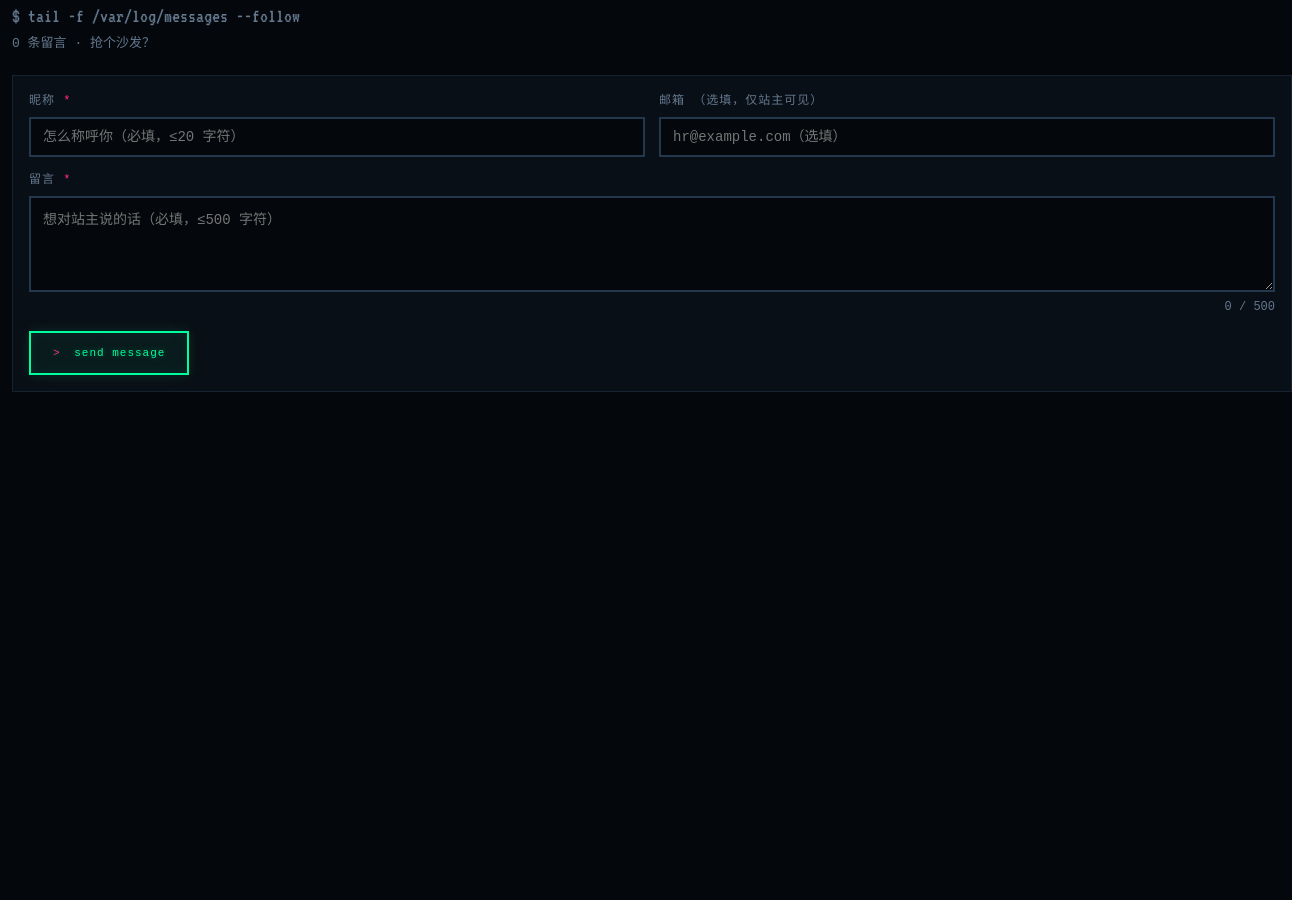
Test case: 提交失败 › 429 限流：toast 显示限流提示
This screenshot has width=1292, height=900.
Type "访客" into the field named "nickname" at (337, 137), box [29, 117, 645, 157]
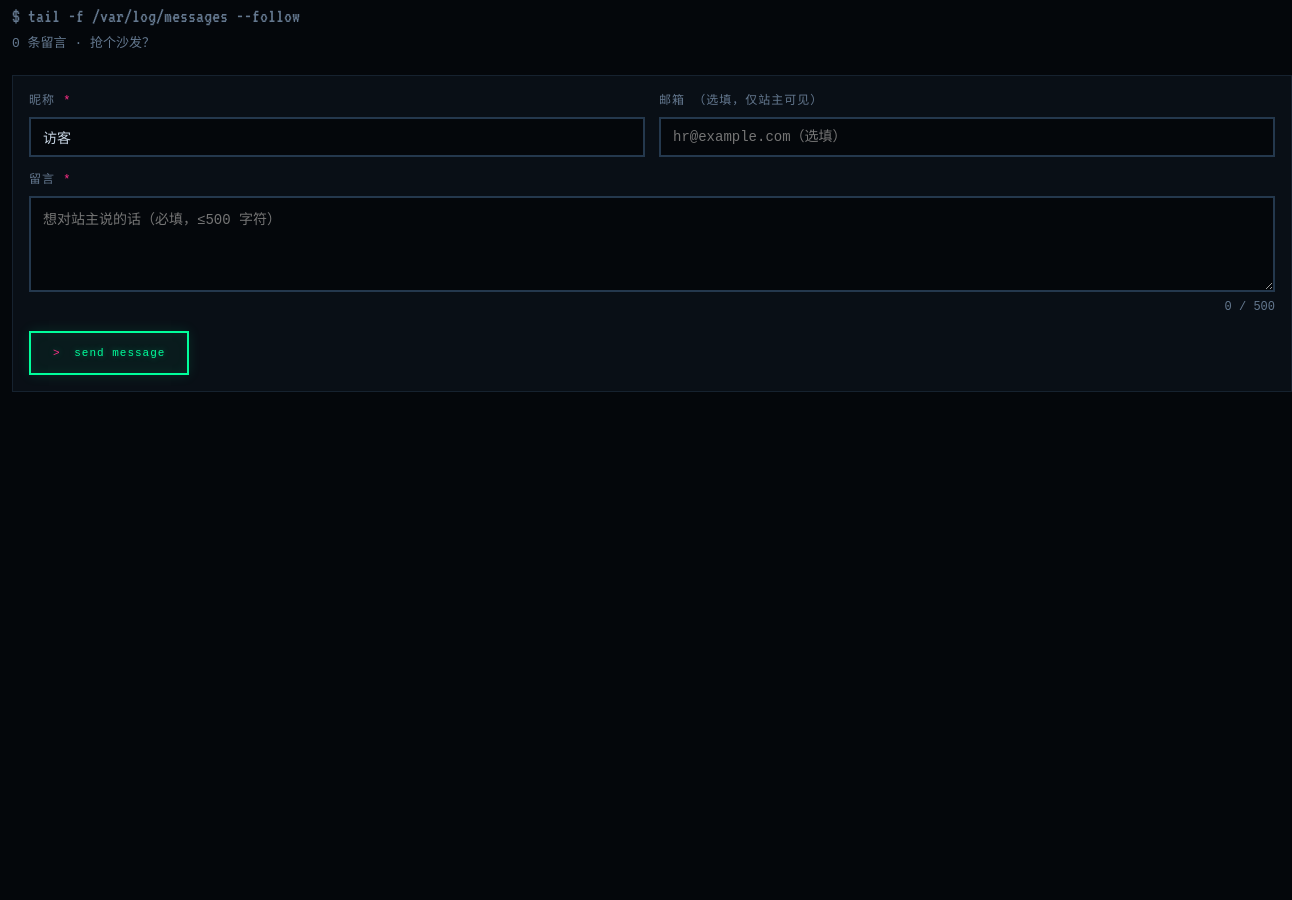
Type "灌水" into the text box named "content" at (652, 244), box [29, 196, 1275, 292]
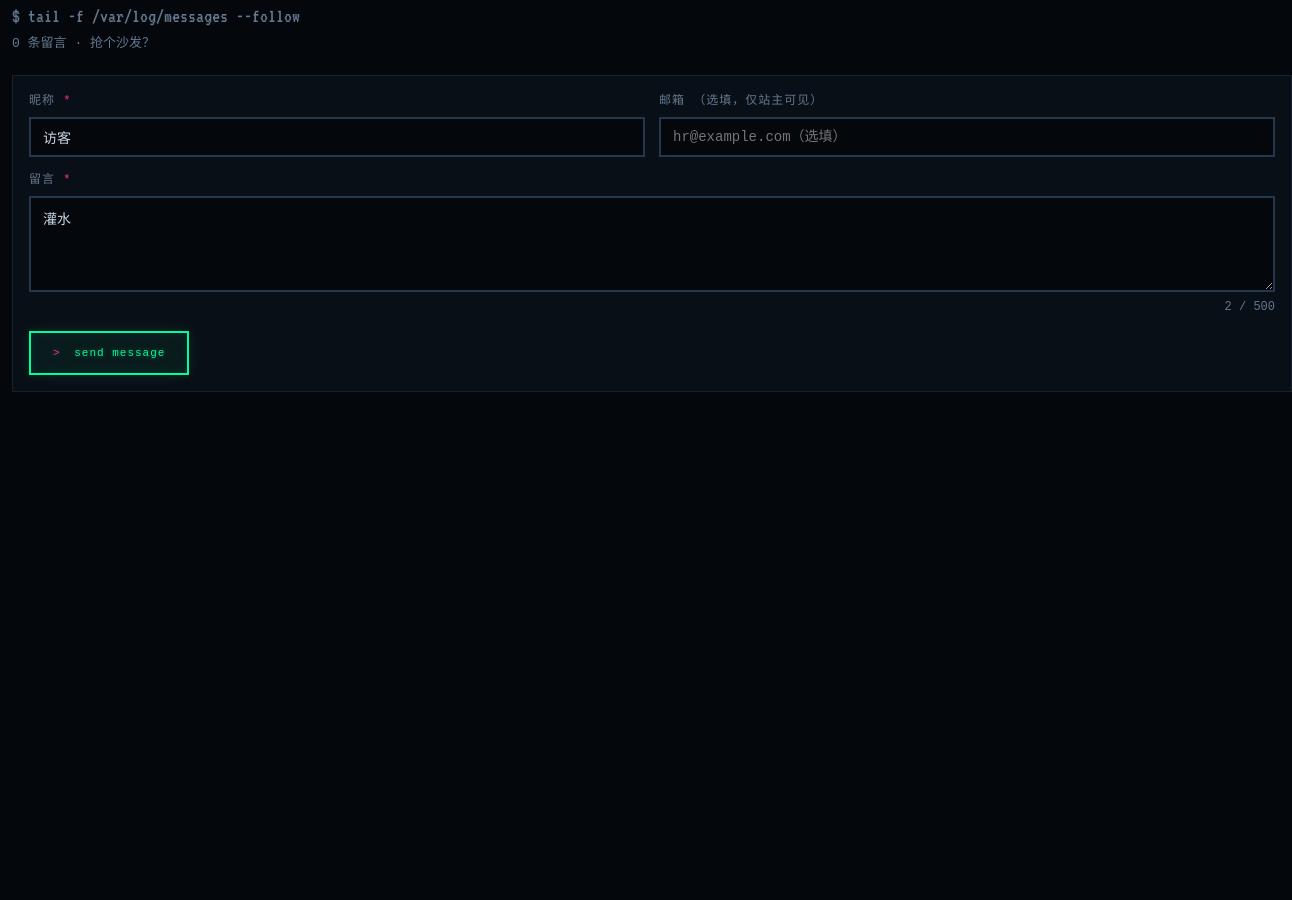
Submit the form, box [12, 75, 1291, 392]
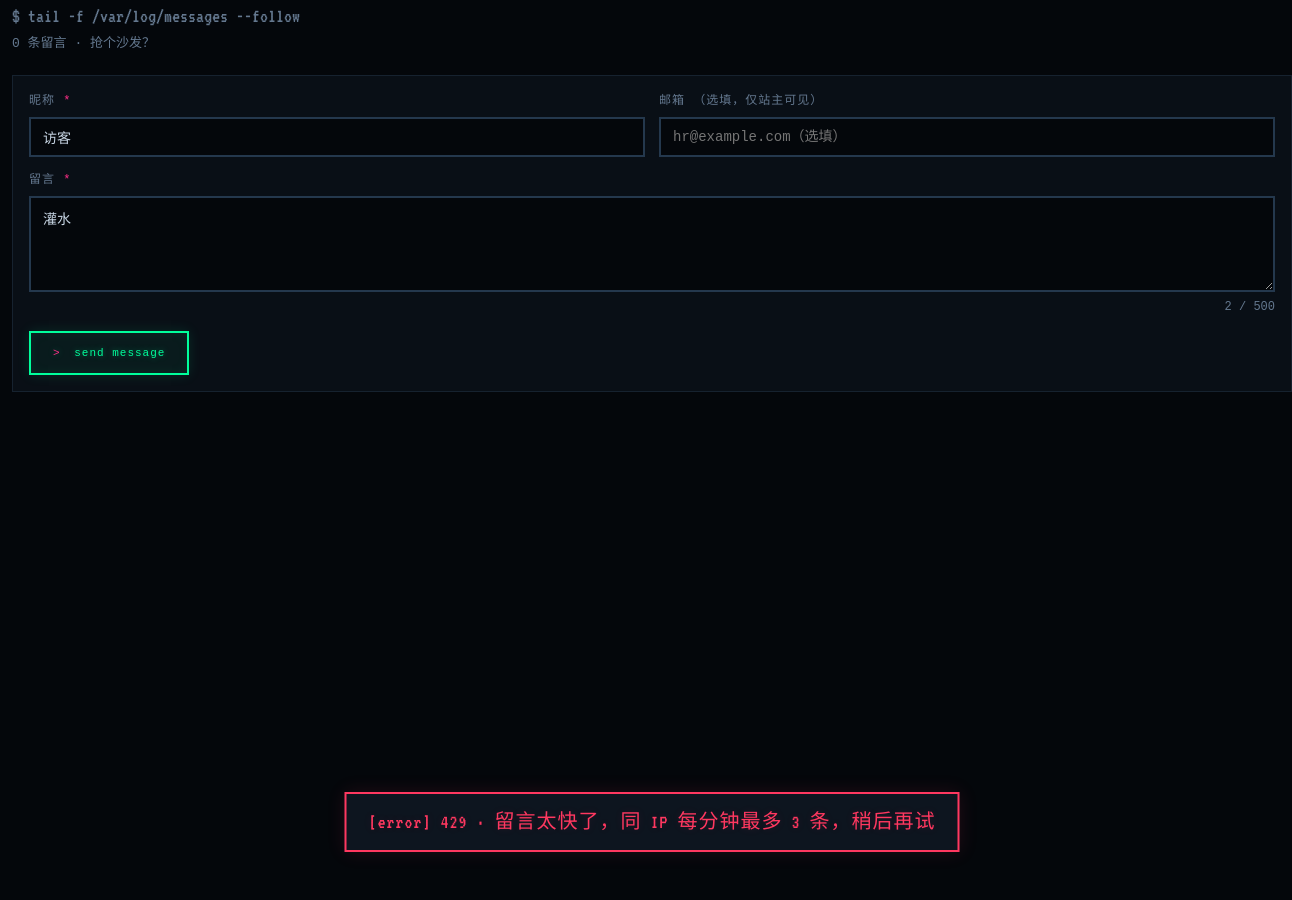
Check: the message with class "toast" shows "429", box [368, 812, 936, 832]
Check: the message with class "toast" shows "每分钟最多 3 条", box [368, 812, 936, 832]
